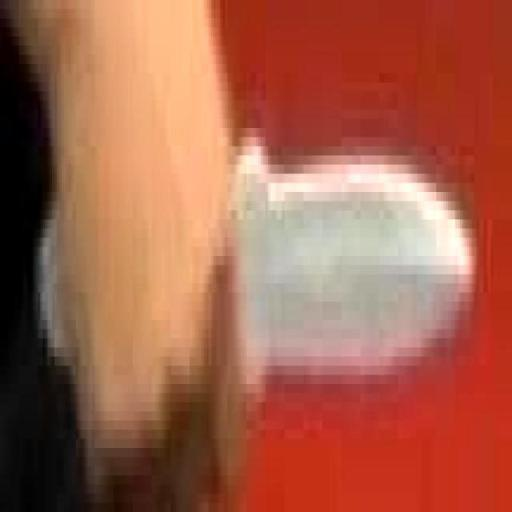knife: (33, 134, 485, 414)
